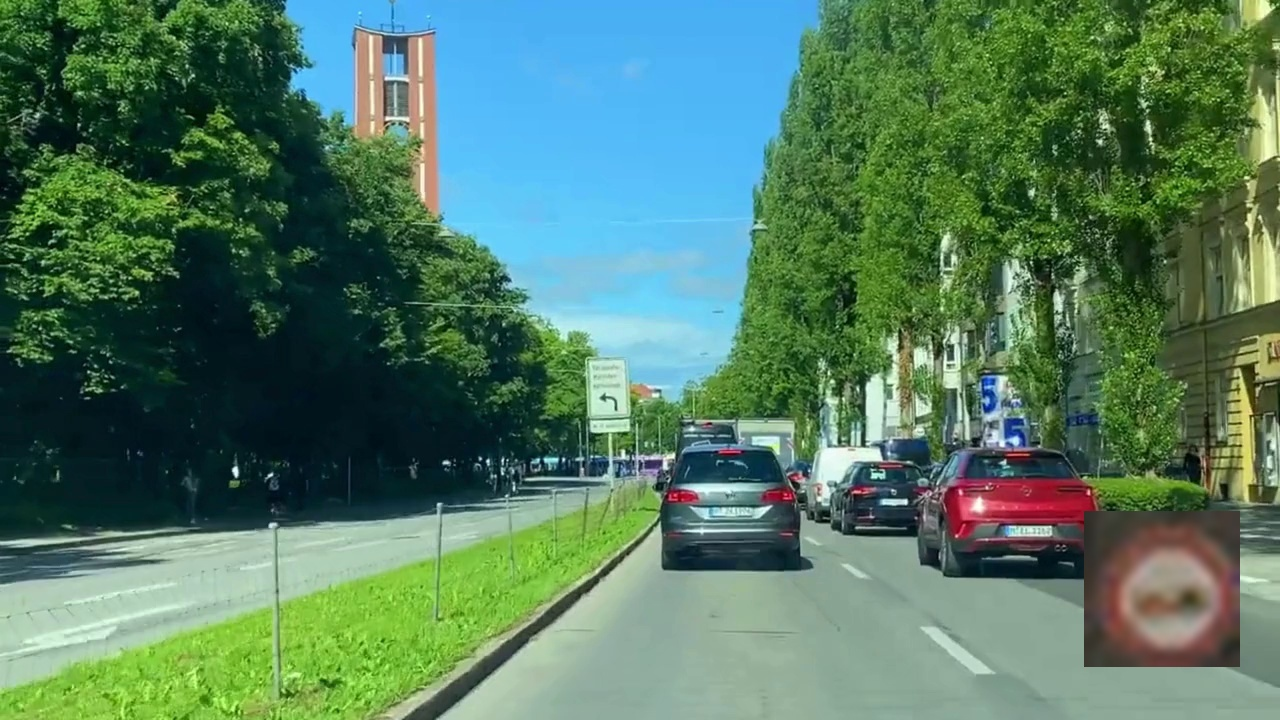No passing: (1084, 511, 1240, 667)
